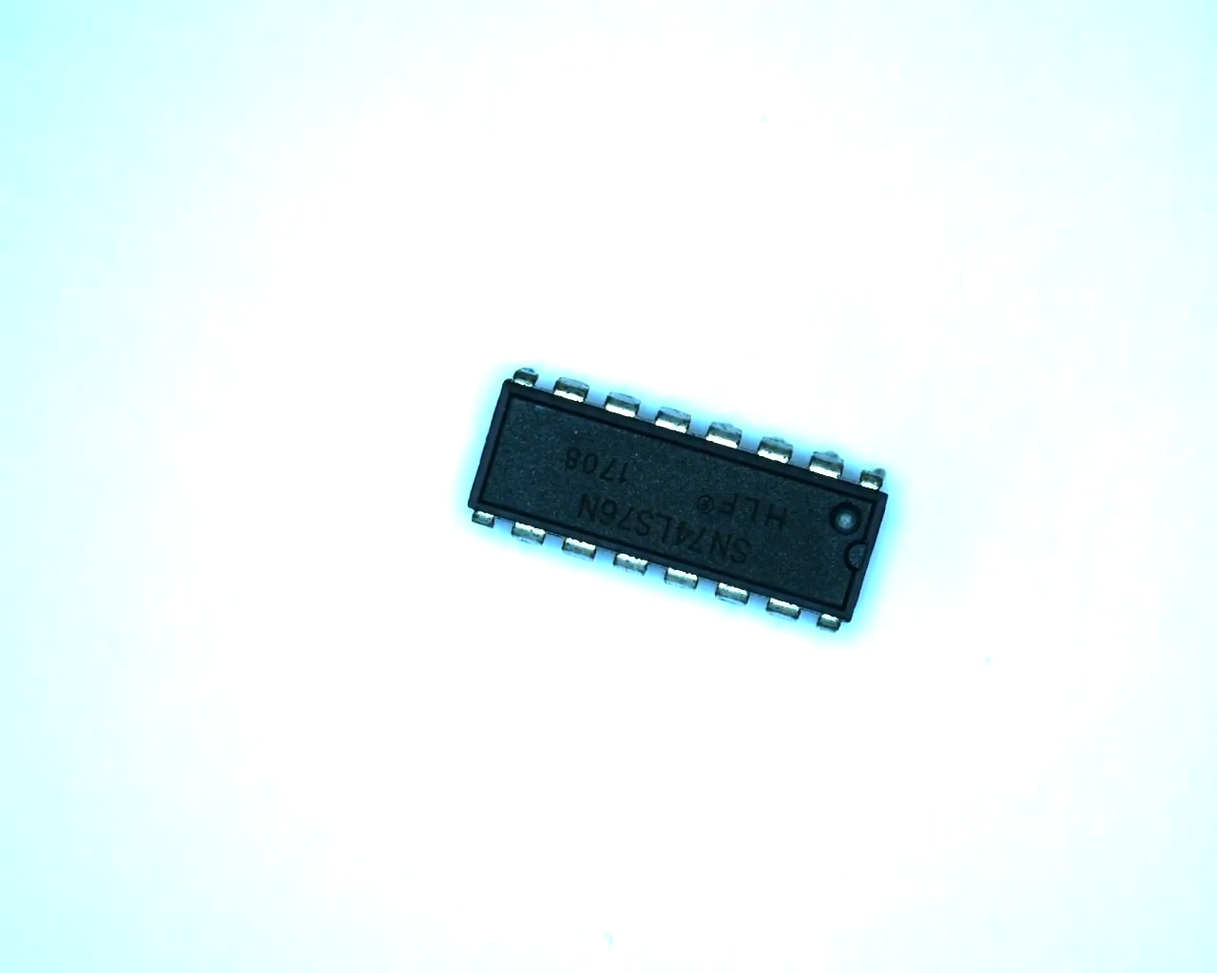IC: (454, 360, 903, 643)
notch: (843, 535, 873, 581)
